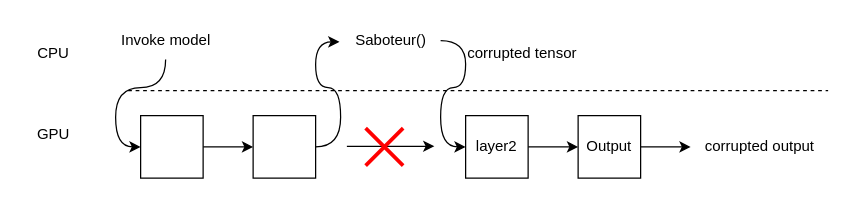
The diagram is 851 pixels wide and 200 high, and some of its shapes have lost their labels. The box of each missing label's shape, as (x1, y1, x2, y2) in pixels:
Input: (139, 114, 203, 178)
layer1: (252, 114, 316, 178)
